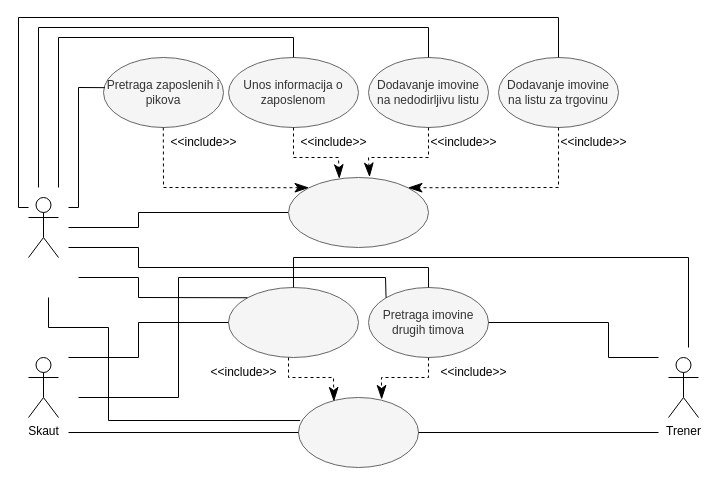
The diagram is 718 pixels wide and 485 high, and some of its shapes have lost their labels. The centre of each missing label's shape, as x and y in pixels:
"Dodavanje imovine drugih timova na listu želja" belongs at (x=293, y=322).
"Menadžer" belongs at (x=43, y=227).
"Pregled imovine drugih timova" belongs at (x=358, y=432).
"Pregled zaposlenih i pikova" belongs at (x=358, y=212).
